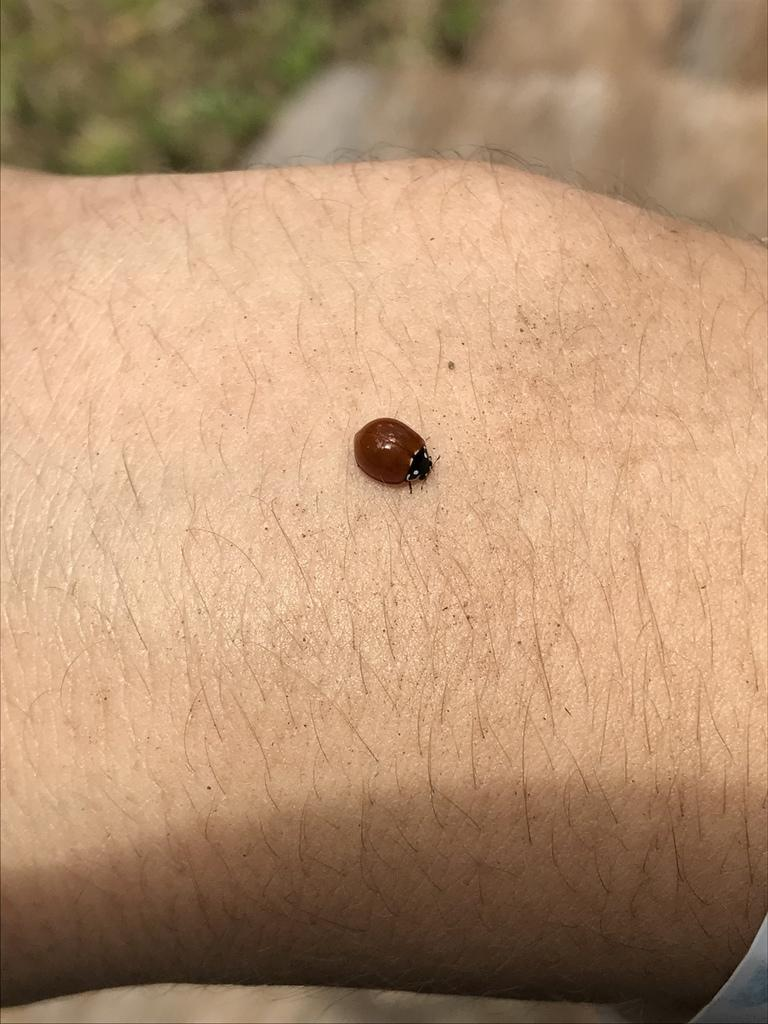ladybug: (354, 414, 439, 496)
